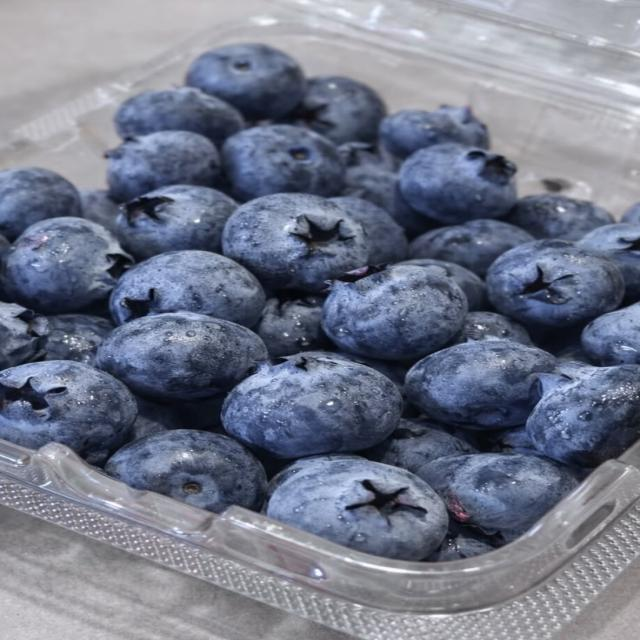blueberry: (223, 354, 402, 458), (267, 460, 447, 560), (97, 312, 266, 399), (222, 194, 368, 292), (0, 361, 137, 464), (322, 265, 467, 359), (106, 429, 266, 512), (406, 341, 556, 429), (0, 217, 132, 314), (418, 454, 578, 533), (487, 240, 624, 327), (110, 250, 266, 326), (527, 363, 639, 467), (221, 125, 344, 201), (400, 144, 516, 224), (115, 185, 237, 260), (187, 44, 305, 121), (106, 131, 219, 202), (114, 87, 244, 146), (409, 219, 534, 277), (343, 165, 437, 238), (287, 76, 386, 144), (365, 418, 477, 473), (262, 453, 366, 511), (0, 168, 81, 241), (380, 106, 488, 158), (331, 197, 407, 264), (506, 194, 614, 240), (578, 223, 639, 302), (254, 295, 331, 357), (298, 351, 408, 393), (399, 259, 486, 311), (581, 303, 639, 366), (44, 314, 113, 365), (389, 174, 441, 239), (0, 303, 50, 369), (425, 519, 499, 562), (454, 312, 533, 346), (168, 392, 226, 433), (132, 397, 183, 441), (338, 141, 400, 171), (79, 189, 119, 234), (484, 425, 543, 455), (621, 203, 639, 224)
